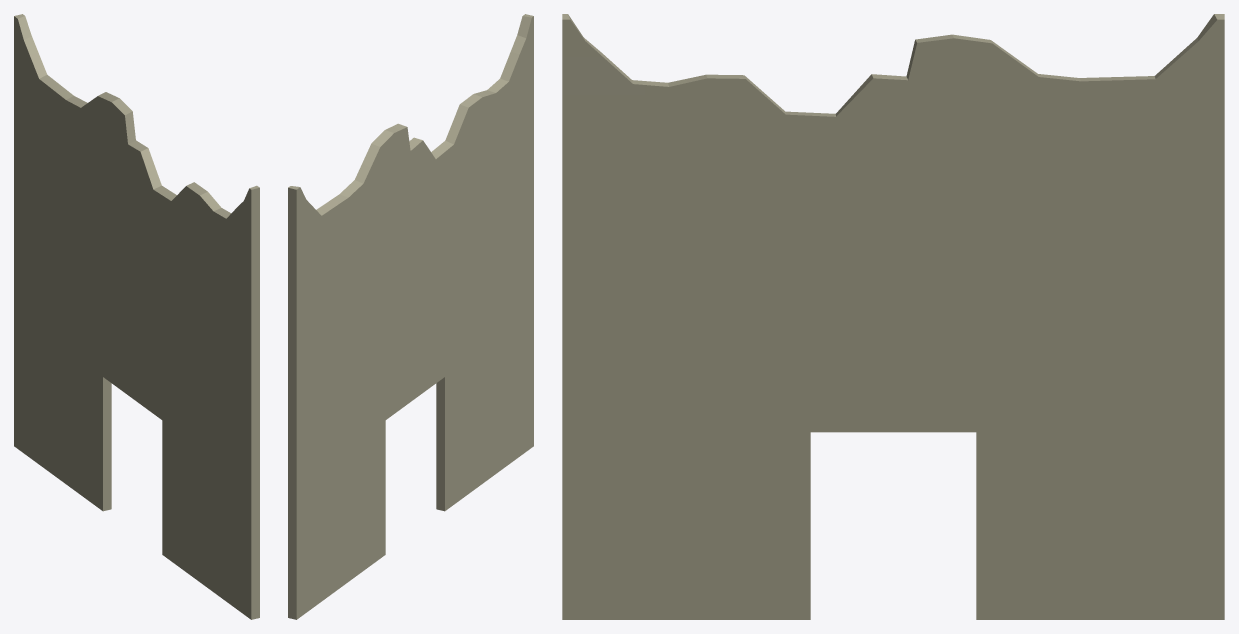
The model's file is WallWithDoorChipped.fbx.
3 renders of one model, left to right at view 1: azimuth 30°, elevation 25°; view 2: azimuth 150°, elevation 25°; view 3: azimuth 270°, elevation 25°, orthographic. The views are drawn at different scales.
Visible parts, largest first — view 1: WallWithDoorChipped; view 2: WallWithDoorChipped; view 3: WallWithDoorChipped.
Boxes of the visible parts, x1,y1,x2,y2 form: WallWithDoorChipped: (14,14,259,619); WallWithDoorChipped: (288,14,533,619); WallWithDoorChipped: (562,14,1224,619).
Bounding box in the file's own units: 0.25 × 12 × 12.
